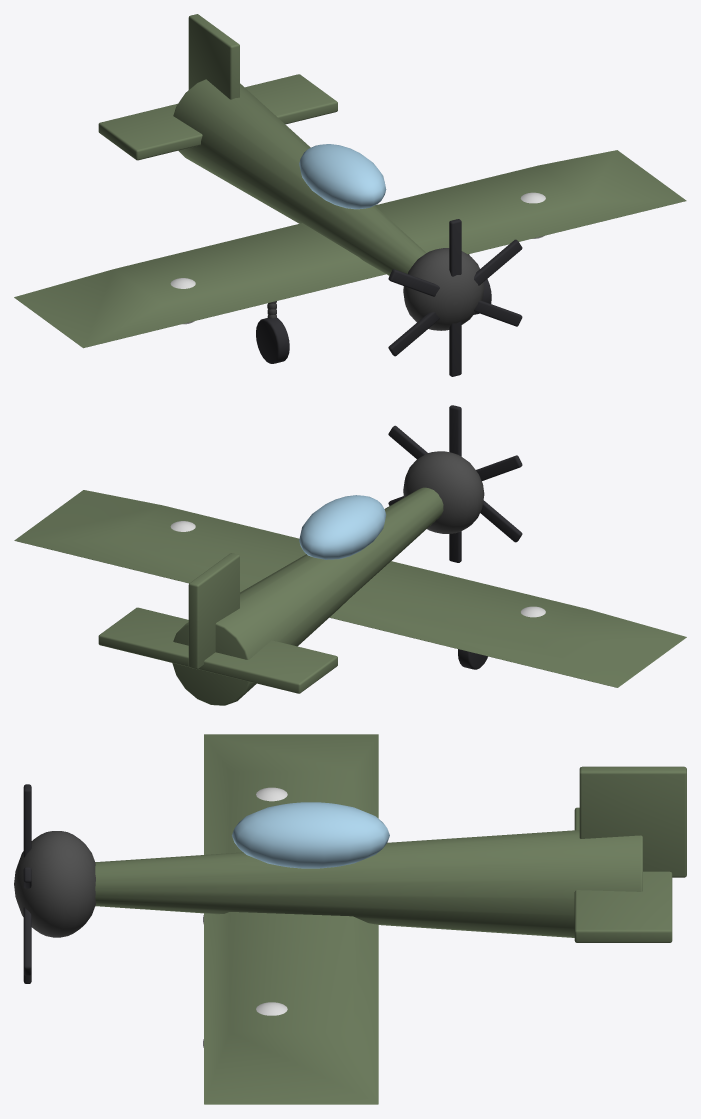
The model's file is aviao_ww2.glb.
3 renders of one model, top to bottom at view 1: azimuth 30°, elevation 25°; view 2: azimuth 150°, elevation 25°; view 3: azimuth 270°, elevation 25°, orthographic. The views are drawn at different scales.
Parts seen in each view (by area): view 1: aviao_ww2; view 2: aviao_ww2; view 3: aviao_ww2.
Part boxes in pixels (x1,y1,x2,y2): aviao_ww2: (14,14,686,376); aviao_ww2: (14,405,686,705); aviao_ww2: (14,734,686,1104).
Size of the model in its own units: 6.46 by 1.94 by 4.96.
